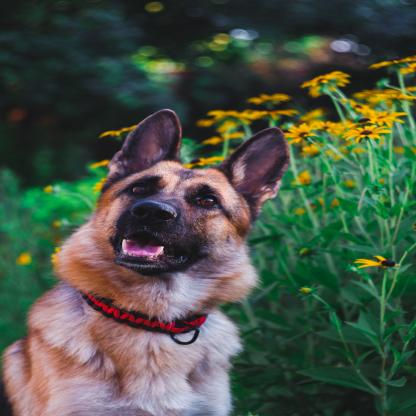dog: (0, 110, 290, 416)
